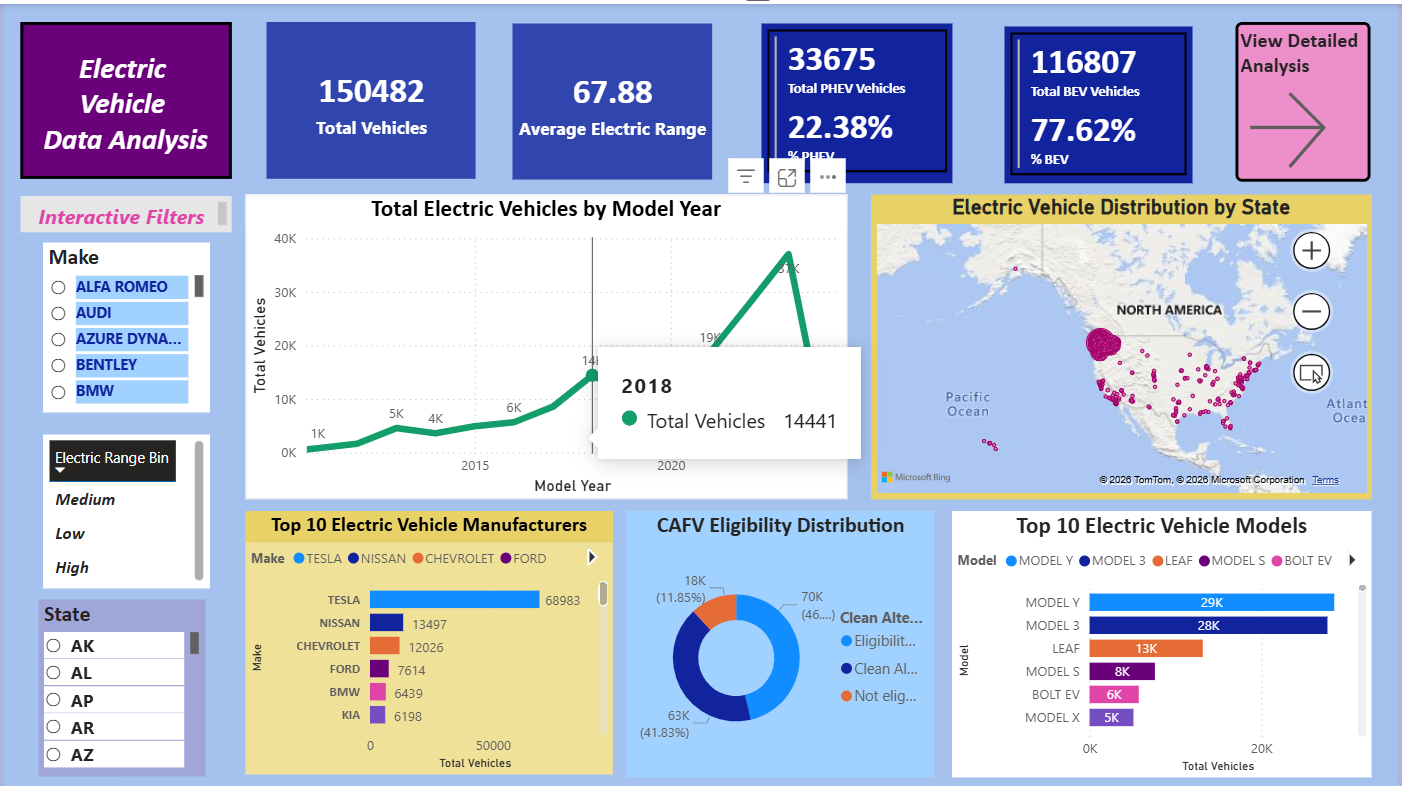

This screenshot's page, from the dashboard's own definition file:
{"tool":"powerbi","page":{"name":"Electric Vehicle Data Analysis Dashboard","canvas":[1280,720],"ordinal":0},"visuals":[{"type":"multiRowCard","fields":{"Values":["KPI Measures (DAX).Total PHEV Vehicles","KPI Measures (DAX).% PHEV"]},"box":[695,18.2,175.6,146.9],"z":0},{"type":"textbox","box":[15.1,16.7,193.8,143.8],"z":1000},{"type":"multiRowCard","fields":{"Values":["KPI Measures (DAX).Total BEV Vehicles","KPI Measures (DAX).% BEV"]},"box":[919.1,21.2,172.6,143.8],"z":2000},{"type":"lineChart","title":"Total Electric Vehicles by Model Year","fields":{"Y":["KPI Measures (DAX).Total Vehicles"],"Category":["Electric_vehicle_dataset.Model Year"]},"box":[221.8,175,552.4,279.6],"z":3000},{"type":"map","title":"Electric Vehicle Distribution by State","fields":{"Y":["Electric_vehicle_dataset.Latitude_location"],"X":["Electric_vehicle_dataset.Longitude_location"],"Size":["KPI Measures (DAX).Total Vehicles"]},"box":[795.8,175.5,459.7,279.3],"z":4000},{"type":"barChart","title":"Top 10 Electric Vehicle Manufacturers","fields":{"Y":["KPI Measures (DAX).Total Vehicles"],"Category":["Electric_vehicle_dataset.Make"],"Series":["Electric_vehicle_dataset.Make"]},"box":[221.2,465.9,337.4,242.2],"z":5000},{"type":"donutChart","title":"CAFV Eligibility Distribution","fields":{"Category":["Electric_vehicle_dataset.Clean Alternative Fuel Vehicle (CAFV) Eligibility"],"Y":["KPI Measures (DAX).Total Vehicles"]},"box":[572.1,465.9,283,244.7],"z":6000},{"type":"barChart","title":"Top 10 Electric Vehicle Models","fields":{"Category":["Electric_vehicle_dataset.Model"],"Y":["KPI Measures (DAX).Total Vehicles"],"Series":["Electric_vehicle_dataset.Model"]},"box":[869.9,465.9,385.5,244.7],"z":7000},{"type":"card","fields":{"Values":["KPI Measures (DAX).Average Electric Range"]},"box":[466.7,18.3,183.3,143.3],"z":8000},{"type":"card","fields":{"Values":["KPI Measures (DAX).Total Vehicles"]},"box":[240.8,16.7,192.3,143.8],"z":9000},{"type":"listSlicer","fields":{"Values":["Electric_vehicle_dataset.Make"]},"box":[36.3,219.6,152.9,156],"z":10000},{"type":"listSlicer","fields":{"Values":["Electric_vehicle_dataset.State"]},"box":[31.8,546.6,152.9,162],"z":11000},{"type":"tableEx","fields":{"Values":["Electric_vehicle_dataset.Electric Range Bin"]},"box":[36.3,395.2,152.9,140.8],"z":12000},{"type":"actionButton","title":"View Detailed Analysis","box":[1131.1,16.7,124.2,146.9],"z":13000},{"type":"textbox","box":[15.2,176.3,194.2,33.1],"z":13001}]}

Visuals, with their boxes in screenshot pixels (x1, y1, x2, y2), scaled from the page's 1280x720 canvas onto the 1402x786 screenshot:
multiRowCard - KPI Measures (DAX).Total PHEV Vehicles x KPI Measures (DAX).% PHEV: box(761, 20, 954, 180)
textbox: box(17, 18, 229, 175)
multiRowCard - KPI Measures (DAX).Total BEV Vehicles x KPI Measures (DAX).% BEV: box(1007, 23, 1196, 180)
"Total Electric Vehicles by Model Year" lineChart: box(243, 191, 848, 496)
"Electric Vehicle Distribution by State" map: box(872, 192, 1375, 496)
"Top 10 Electric Vehicle Manufacturers" barChart: box(242, 509, 612, 773)
"CAFV Eligibility Distribution" donutChart: box(627, 509, 937, 776)
"Top 10 Electric Vehicle Models" barChart: box(953, 509, 1375, 776)
card - KPI Measures (DAX).Average Electric Range: box(511, 20, 712, 176)
card - KPI Measures (DAX).Total Vehicles: box(264, 18, 474, 175)
listSlicer - Electric_vehicle_dataset.Make: box(40, 240, 207, 410)
listSlicer - Electric_vehicle_dataset.State: box(35, 597, 202, 774)
tableEx - Electric_vehicle_dataset.Electric Range Bin: box(40, 431, 207, 585)
"View Detailed Analysis" actionButton: box(1239, 18, 1375, 179)
textbox: box(17, 192, 229, 229)
